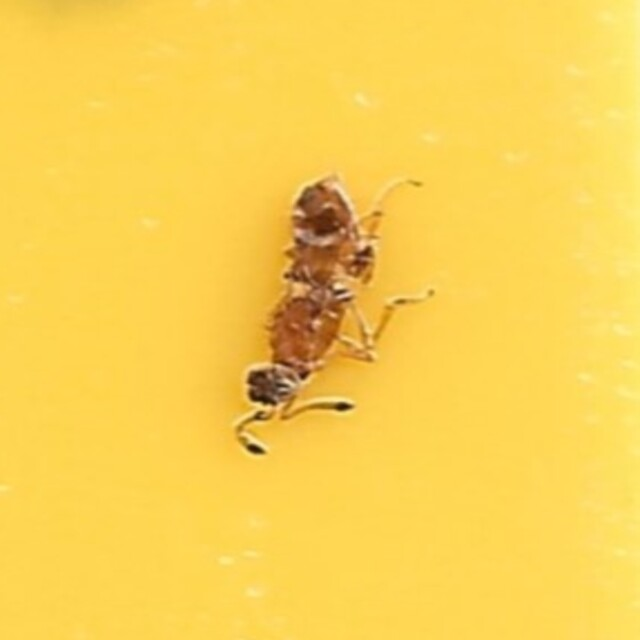Hymenoptera: (223, 182, 417, 458)
